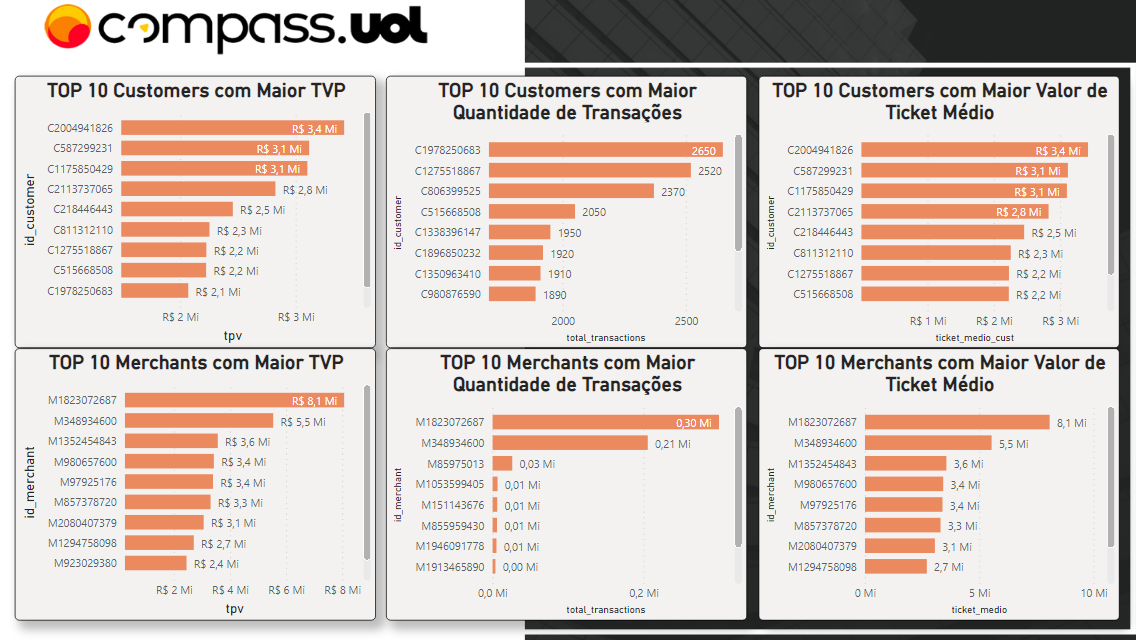

This screenshot's page, from the dashboard's own definition file:
{"tool":"powerbi","page":{"name":"Página 3","canvas":[1280,720],"ordinal":2},"visuals":[{"type":"barChart","title":"TOP 10  Customers com Maior  TVP","fields":{"Y":["Sum(fact_customer_kpi.tpv)"],"Category":["fact_customer_kpi.id_customer"]},"box":[31.6,97.5,396.9,299.4],"z":0},{"type":"barChart","title":"TOP 10  Customers com Maior Quantidade de Transações","fields":{"Category":["fact_customer_kpi.id_customer"],"Y":["Sum(fact_customer_kpi.total_transactions)"]},"box":[439.5,97.5,396.9,299.4],"z":1000},{"type":"barChart","title":"TOP 10 Customers com Maior Valor de Ticket Médio","fields":{"Category":["fact_customer_kpi.id_customer"],"Y":["fact_customer_kpi.ticket_medio_cust"]},"box":[848.8,97.5,396.9,299.4],"z":2000},{"type":"barChart","title":"TOP 10 Merchants com Maior TVP","fields":{"Category":["fact_merchant_kpi.id_merchant"],"Y":["Sum(fact_merchant_kpi.tpv)"]},"box":[31.6,396.9,396.9,299.4],"z":3000},{"type":"barChart","title":"TOP 10  Merchants  com Maior Quantidade de Transações","fields":{"Category":["fact_merchant_kpi.id_merchant"],"Y":["Sum(fact_merchant_kpi.total_transactions)"]},"box":[439.5,396.9,396.9,299.4],"z":4000},{"type":"barChart","title":"TOP 10 Merchants com Maior Valor de Ticket Médio","fields":{"Category":["fact_merchant_kpi.id_merchant"],"Y":["fact_merchant_kpi.ticket_medio"]},"box":[848.8,396.9,396.9,299.4],"z":5000}]}

Visuals, with their boxes in screenshot pixels (x1, y1, x2, y2), scaled from the page's 1280x720 canvas onto the 1136x640 screenshot:
"TOP 10  Customers com Maior  TVP" barChart: detection(28, 87, 380, 353)
"TOP 10  Customers com Maior Quantidade de Transações" barChart: detection(390, 87, 742, 353)
"TOP 10 Customers com Maior Valor de Ticket Médio" barChart: detection(753, 87, 1106, 353)
"TOP 10 Merchants com Maior TVP" barChart: detection(28, 353, 380, 619)
"TOP 10  Merchants  com Maior Quantidade de Transações" barChart: detection(390, 353, 742, 619)
"TOP 10 Merchants com Maior Valor de Ticket Médio" barChart: detection(753, 353, 1106, 619)
